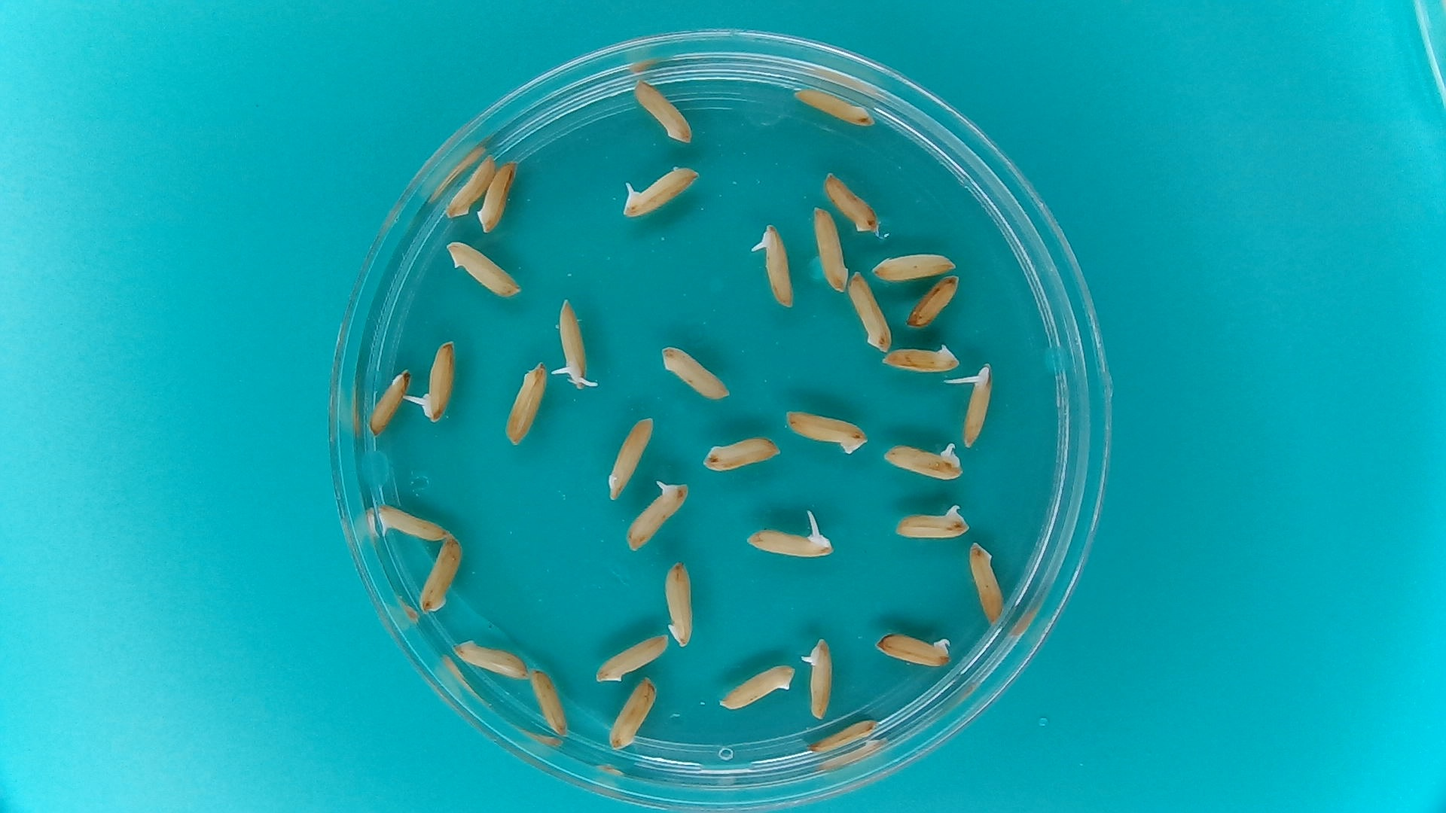no: (444, 239, 522, 299), (658, 341, 733, 403), (602, 414, 654, 502), (503, 360, 551, 449), (821, 168, 880, 240), (606, 674, 658, 754), (448, 635, 532, 684), (591, 634, 671, 684), (633, 78, 695, 142), (782, 409, 870, 454), (789, 84, 875, 129), (717, 663, 797, 711), (523, 664, 570, 743), (472, 157, 520, 234), (444, 153, 498, 221), (847, 271, 890, 356), (417, 536, 464, 613), (812, 202, 850, 296), (966, 542, 1007, 626), (905, 272, 960, 332), (874, 247, 958, 286), (700, 434, 783, 471), (367, 367, 410, 435), (664, 561, 697, 646), (879, 341, 961, 374), (809, 720, 880, 752)
yes: (622, 476, 691, 553), (748, 220, 793, 312), (624, 166, 700, 217), (880, 440, 967, 483), (871, 629, 956, 670), (421, 343, 459, 424), (892, 504, 972, 542), (801, 635, 836, 720), (373, 504, 447, 542), (560, 300, 589, 385), (748, 528, 834, 556), (966, 361, 994, 446)
